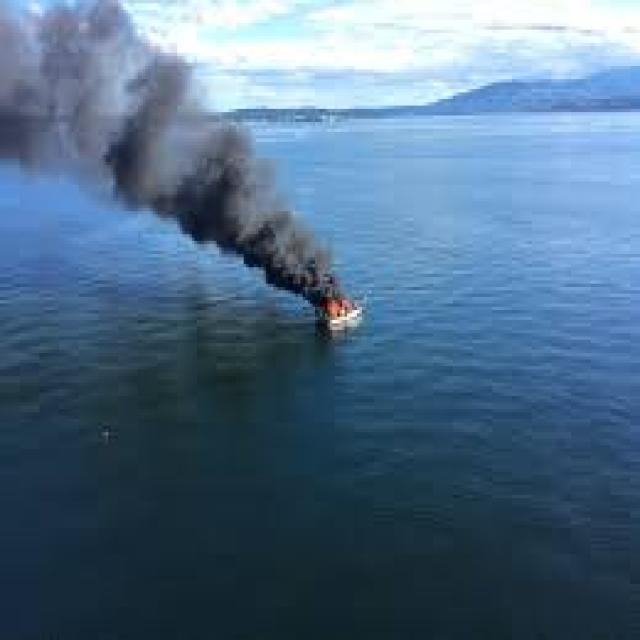Fire: (317, 298, 358, 318)
Smoke: (0, 2, 339, 294)
